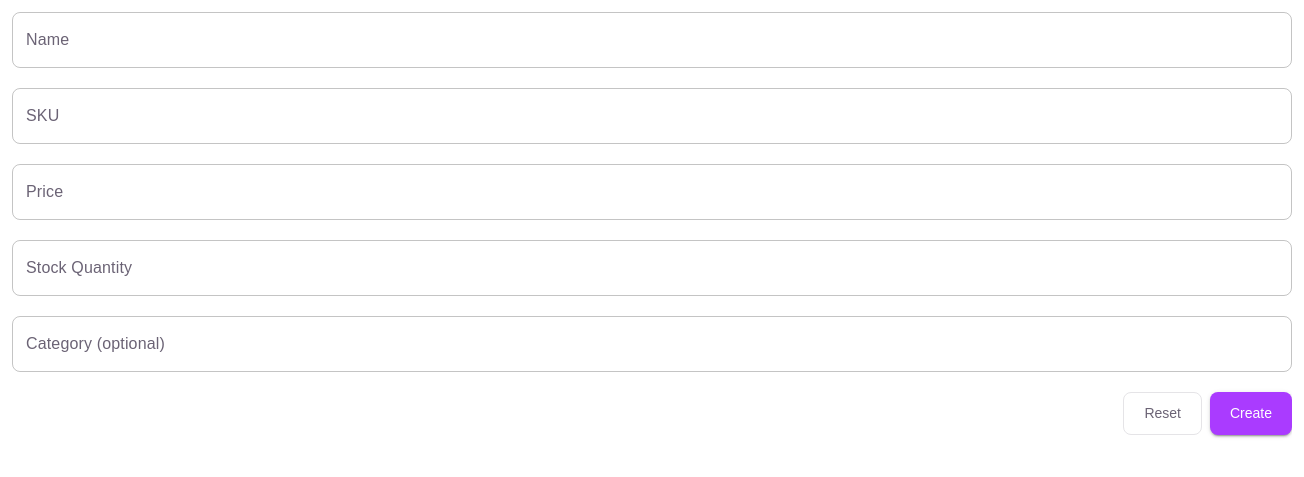
ProductForm › should show error for negative price
The image size is (1304, 477).
Type "Test Product" into the field labelled "Name" at (652, 40), box [12,12,1292,68]
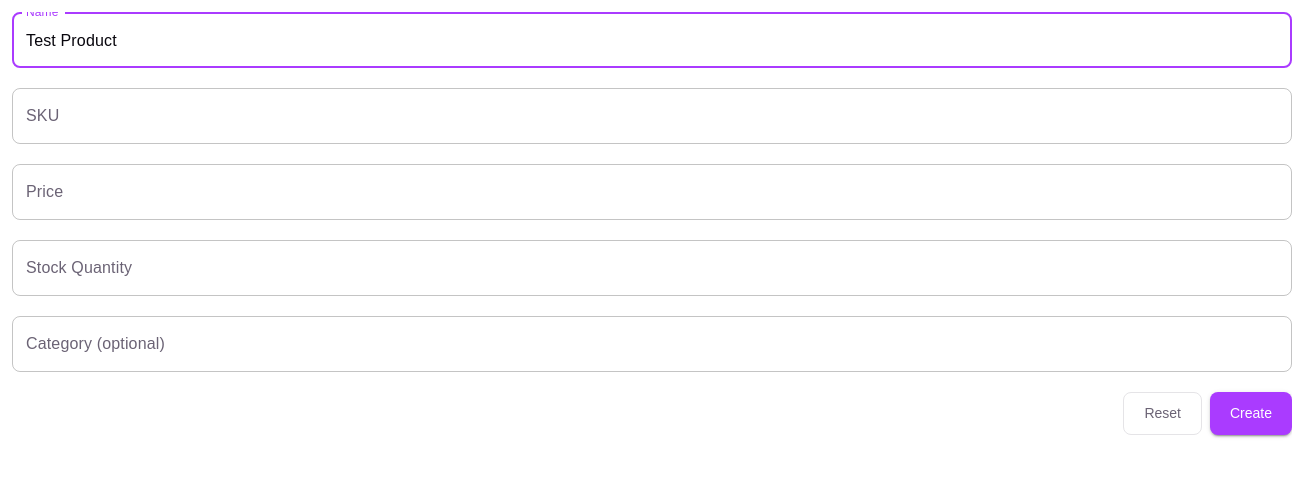
Type "TEST-001" into the field labelled "SKU" at (652, 116), box [12,88,1292,144]
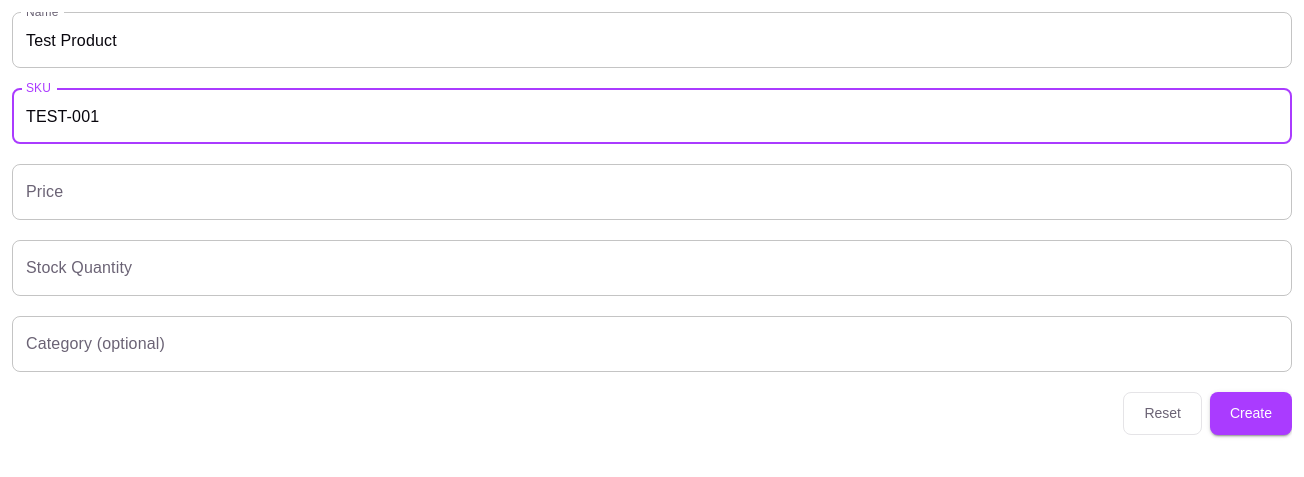
Type "-5" into the number field labelled "Price" at (652, 192), box [12,164,1292,220]
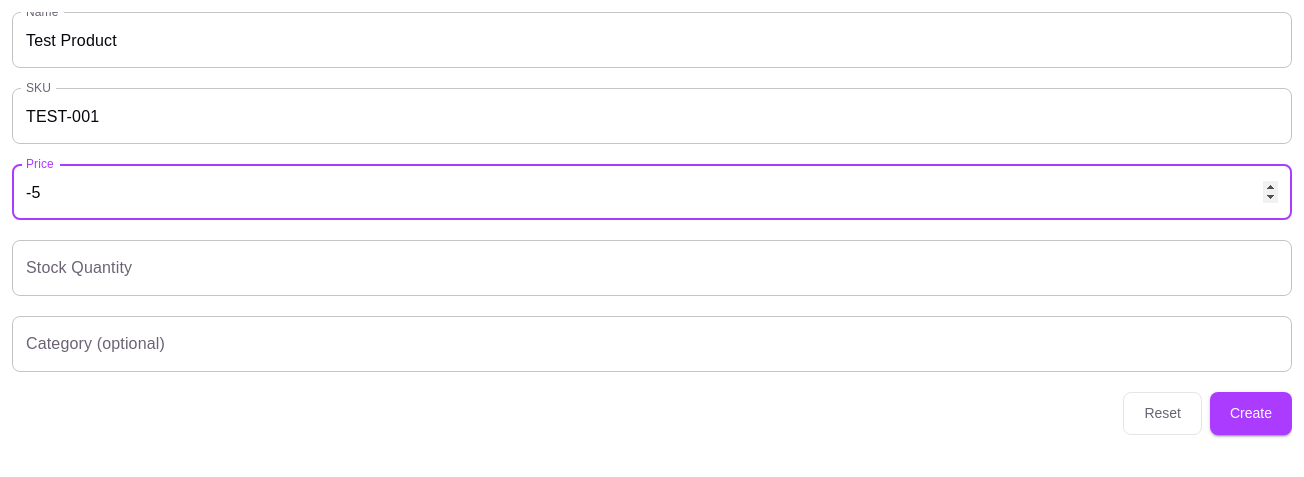
Type "100" into the number field labelled "Stock Quantity" at (652, 268), box [12,240,1292,296]
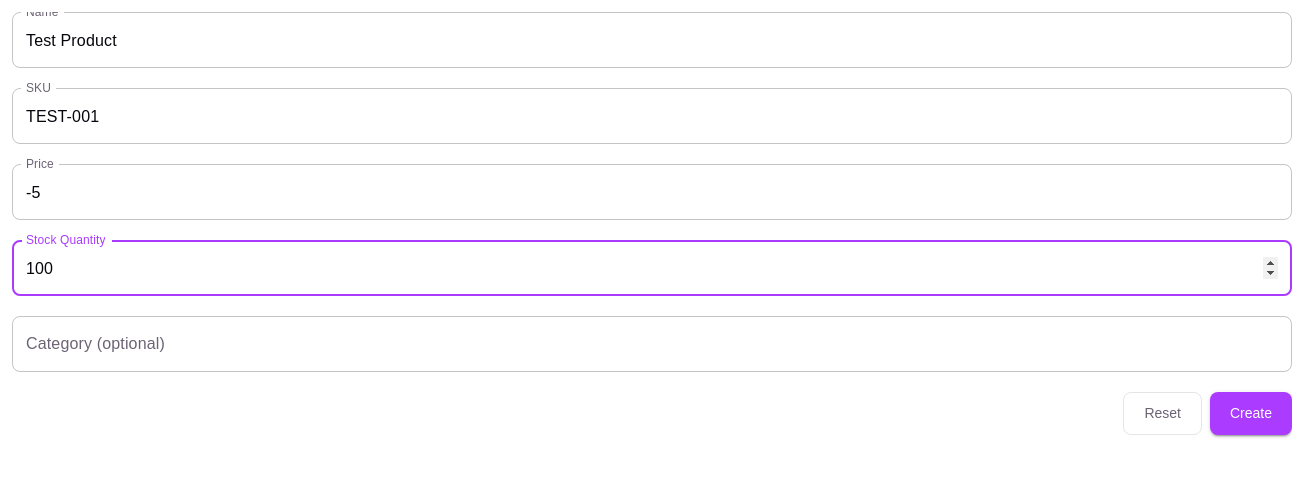
Click the button "Create" at (1251, 413), box [1210,392,1292,434]
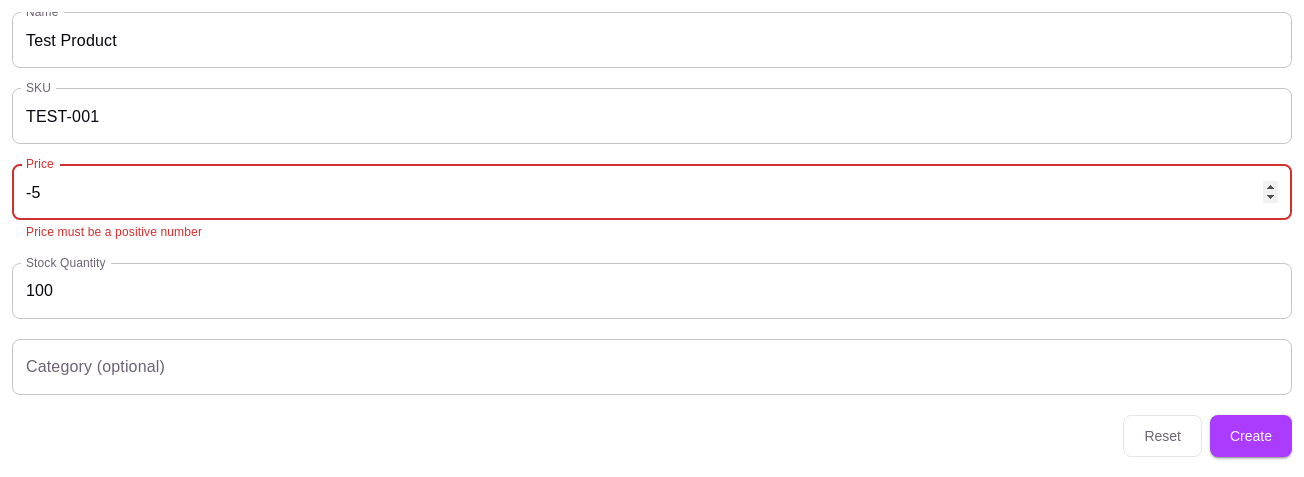
Check: the text "Price must be a positive number" is shown, box [26,225,202,239]
